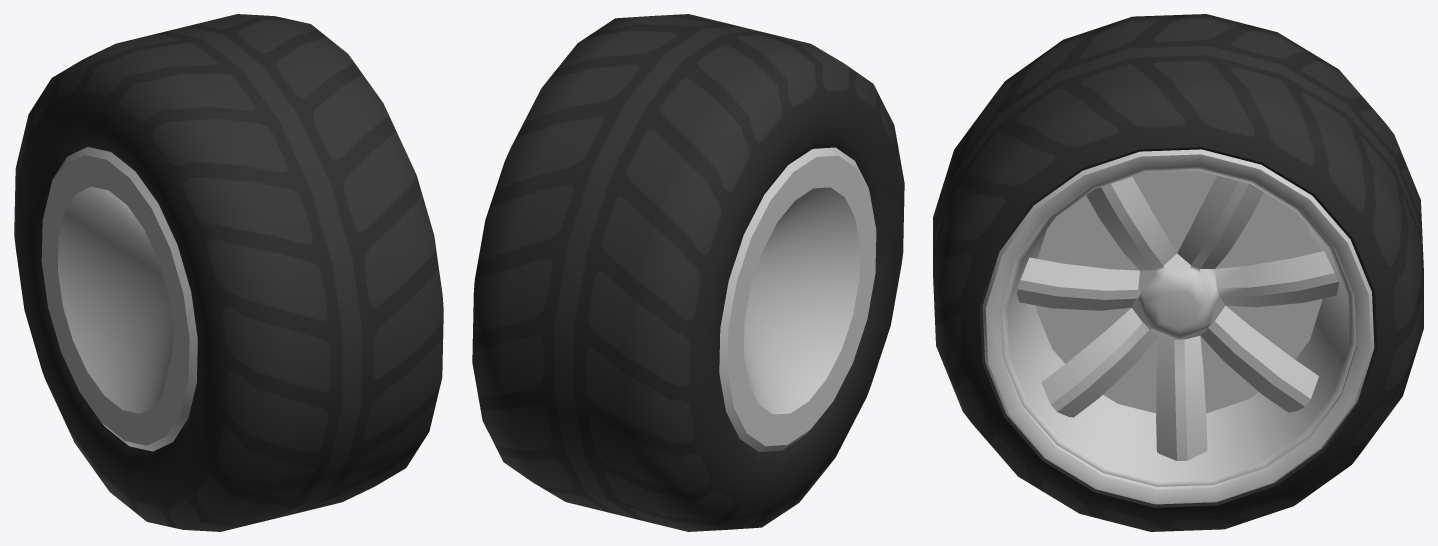
Rendered from Car_10_Wheel_BL.fbx.
3 renders of one model, left to right at view 1: azimuth 30°, elevation 25°; view 2: azimuth 150°, elevation 25°; view 3: azimuth 270°, elevation 25°, orthographic.
Visible parts, largest first — view 1: Car_10_Wheel_BL; view 2: Car_10_Wheel_BL; view 3: Car_10_Wheel_BL.
Boxes of the visible parts, x1,y1,x2,y2 form: Car_10_Wheel_BL: [14, 14, 443, 531]; Car_10_Wheel_BL: [472, 14, 904, 531]; Car_10_Wheel_BL: [933, 14, 1423, 531].
Size of the model in its own units: 50.65 by 94.94 by 94.94.
